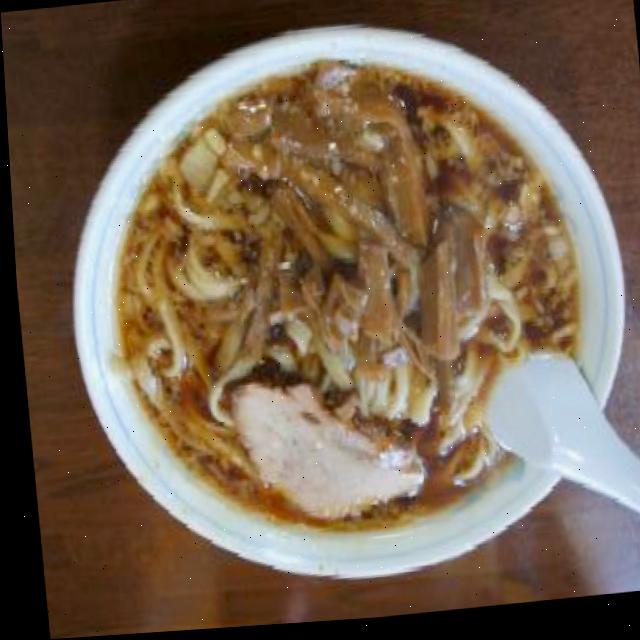面条主食: (41, 2, 640, 609)
